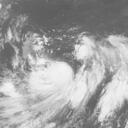cyclone: (48, 62, 74, 87)
